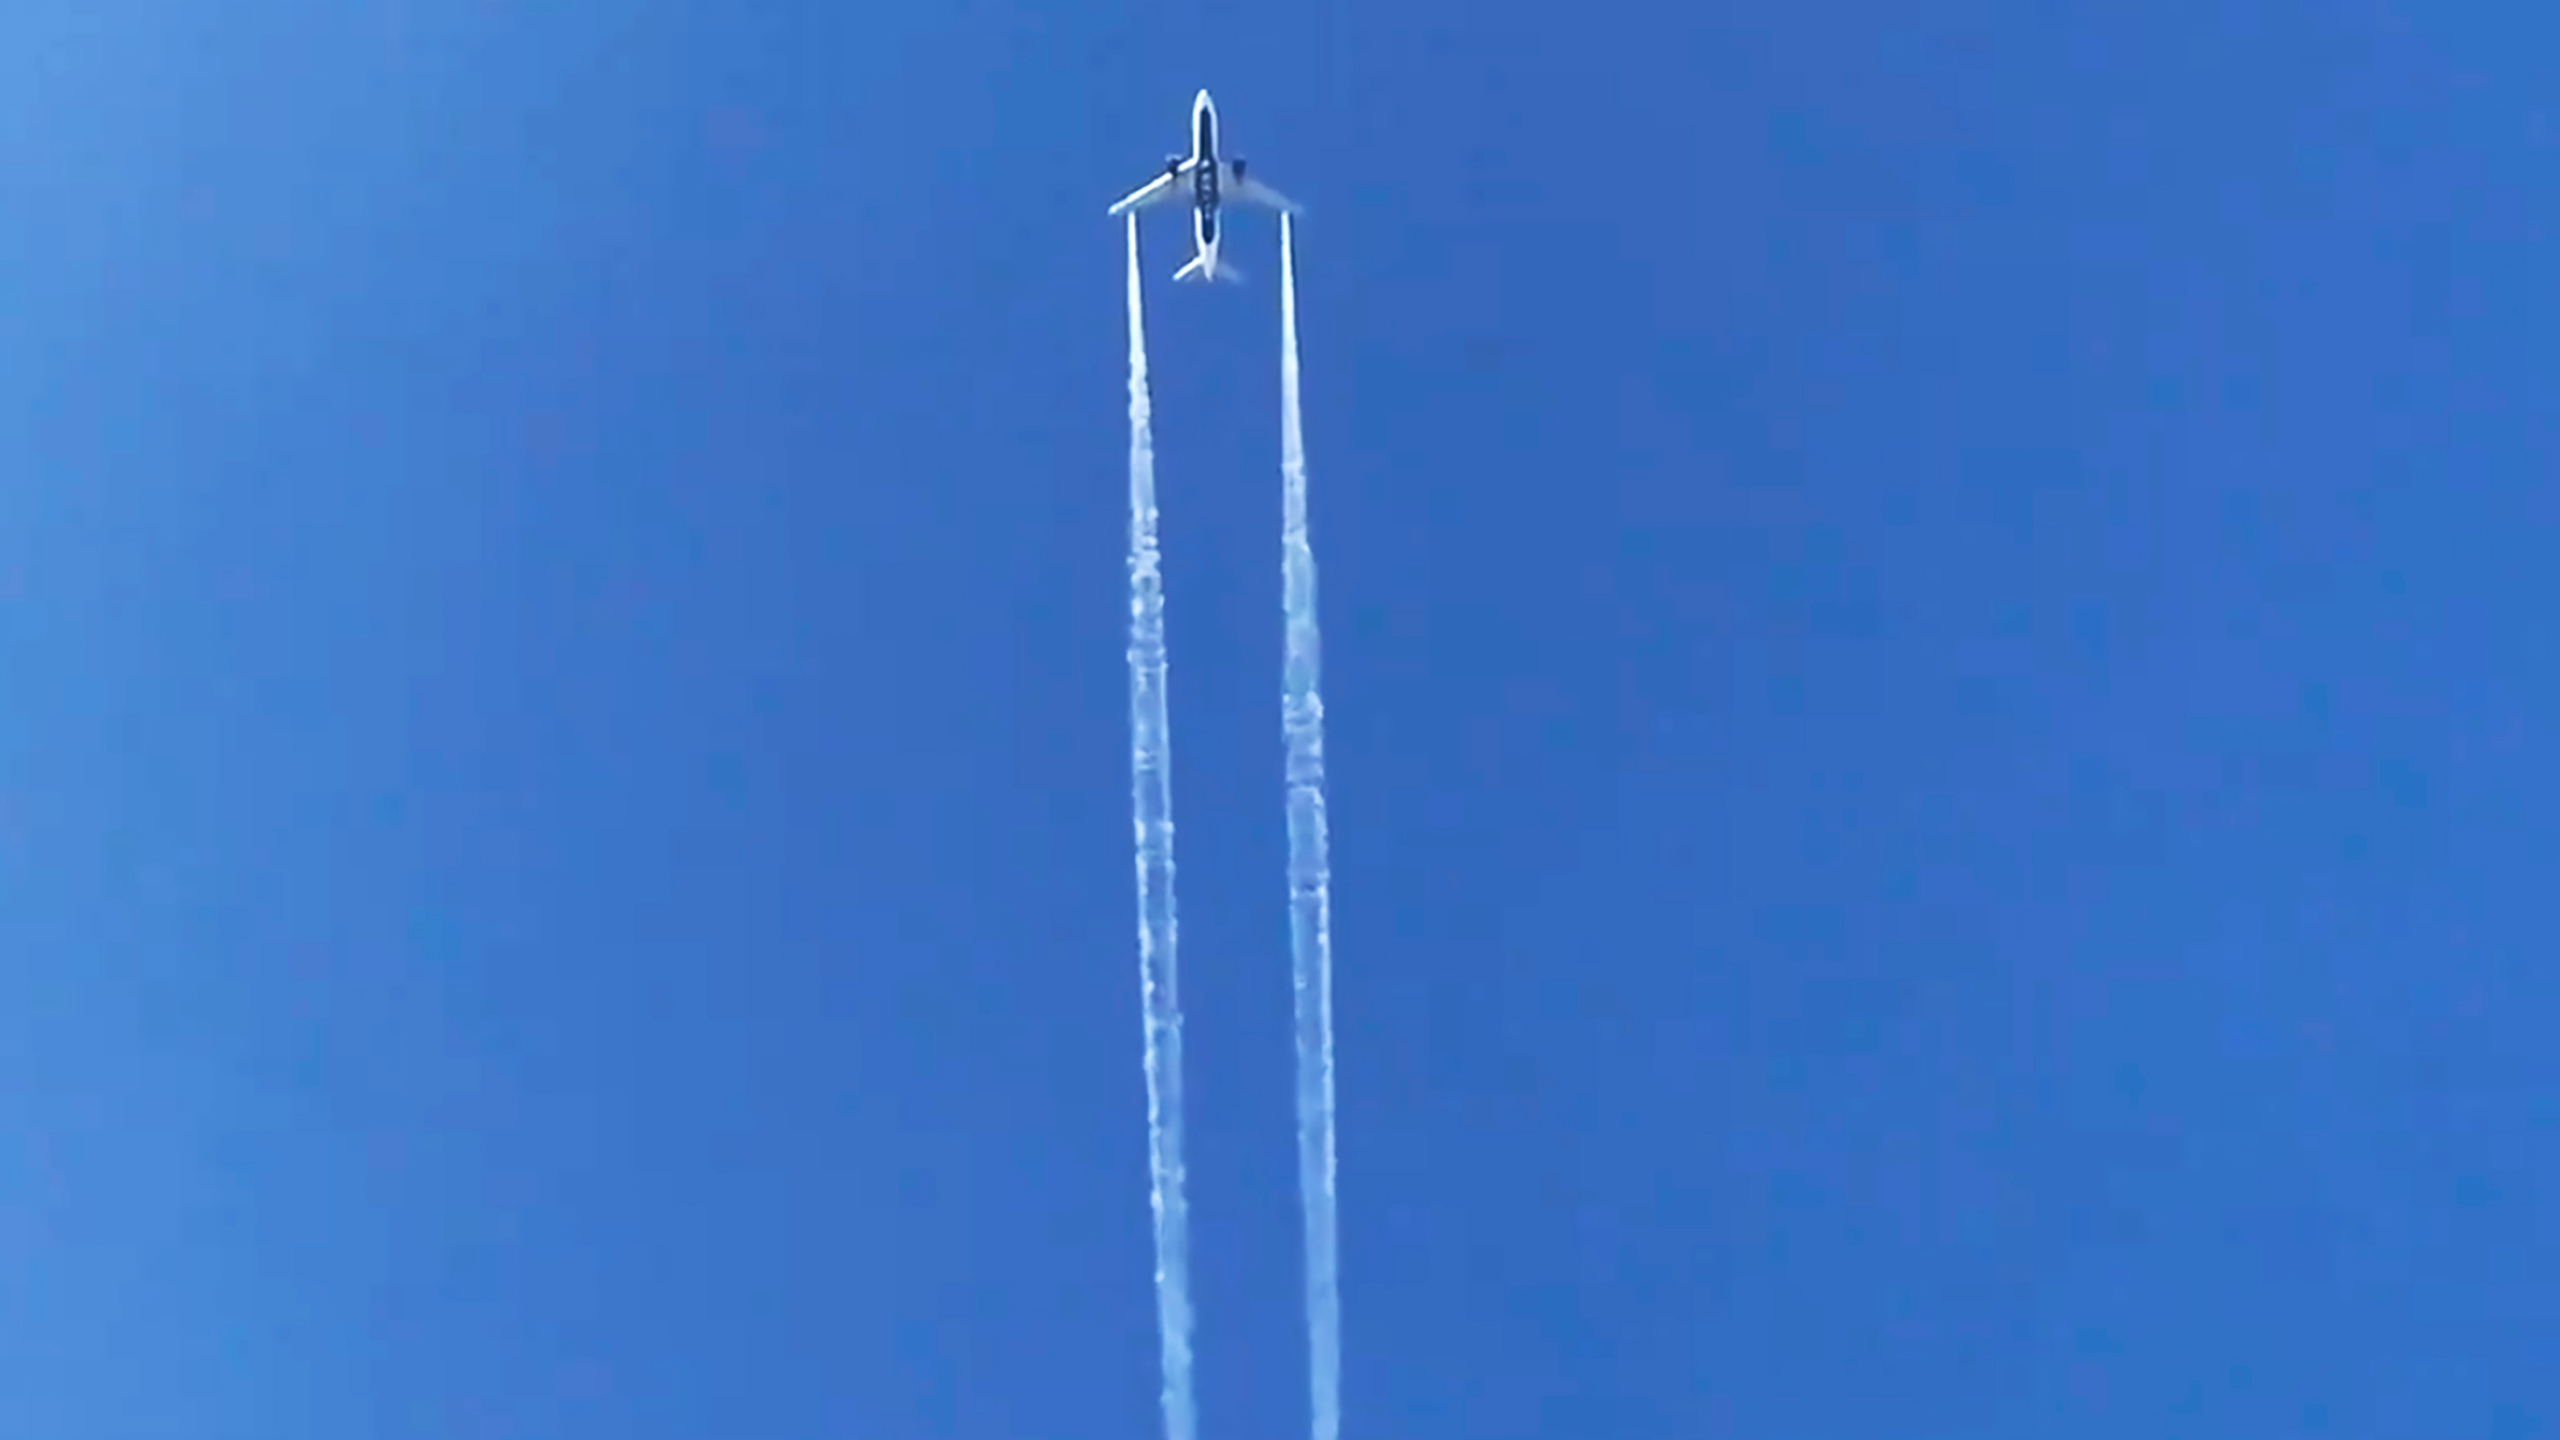plane: (1095, 74, 1319, 294)
